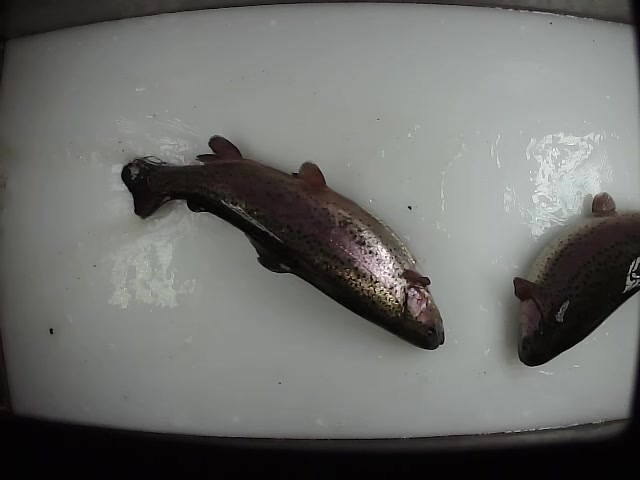fish: (118, 133, 446, 351)
